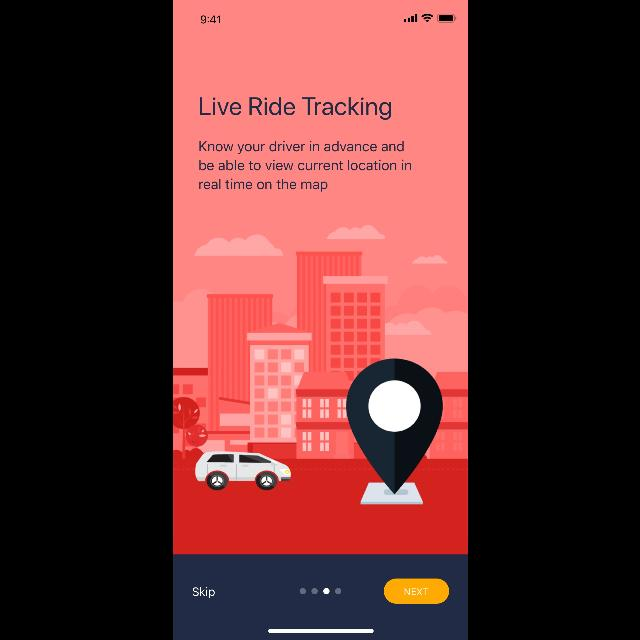image: (172, 224, 468, 554)
pageindicator: (299, 588, 341, 594)
text: (198, 142, 412, 192), (198, 98, 390, 120), (192, 586, 214, 598)
textbutton: (383, 578, 449, 604)
